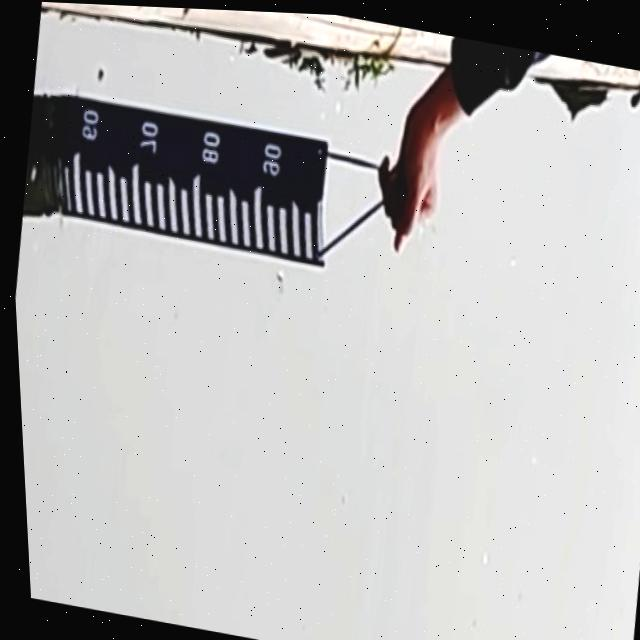water-meter: (31, 66, 359, 288)
